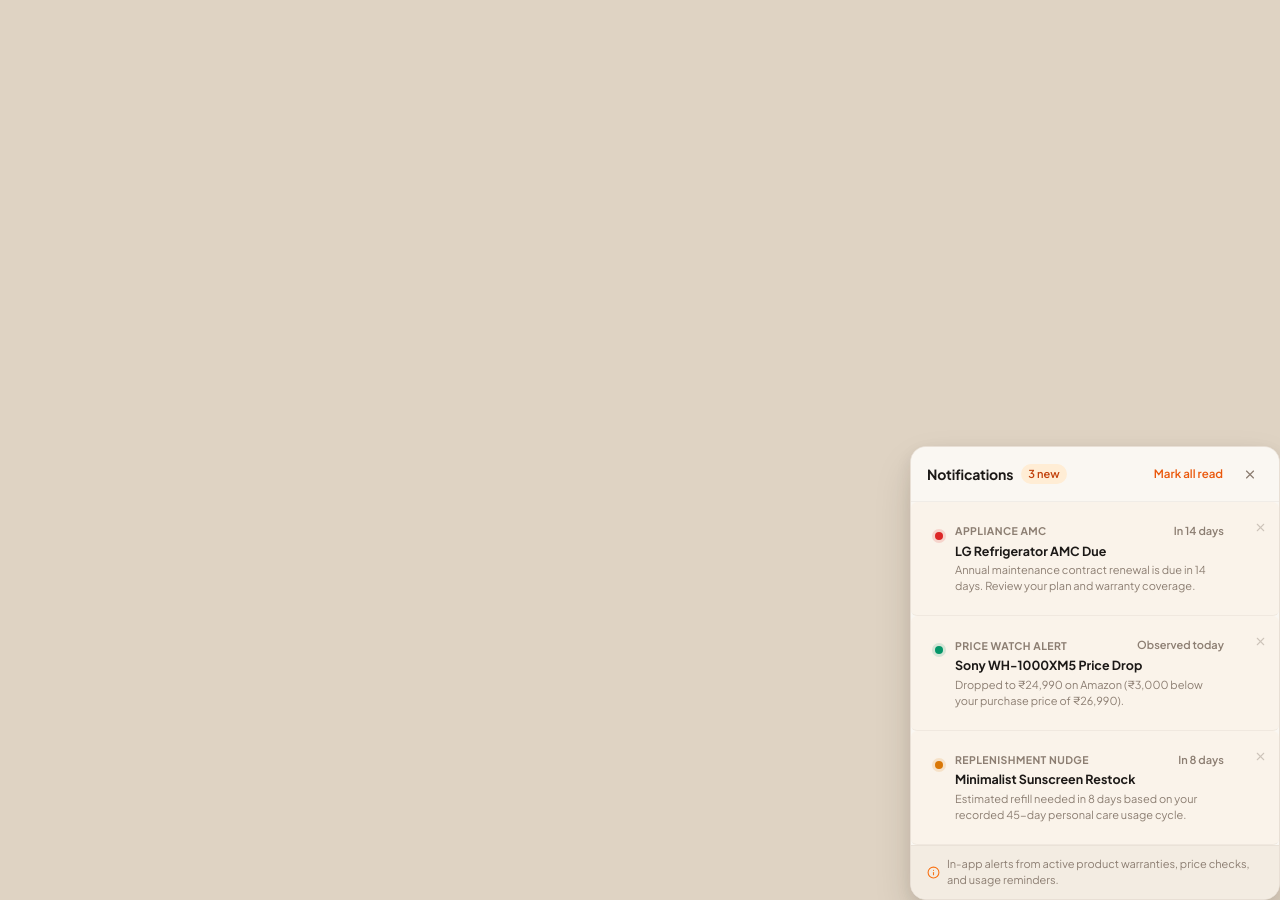
Test case: NotificationCenter › dismisses an individual notification and shows empty state when all are removed
(page scrolled)
Click the button named "dismiss notification" at (1260, 528), box [1250,514,1271,543]
(page scrolled)
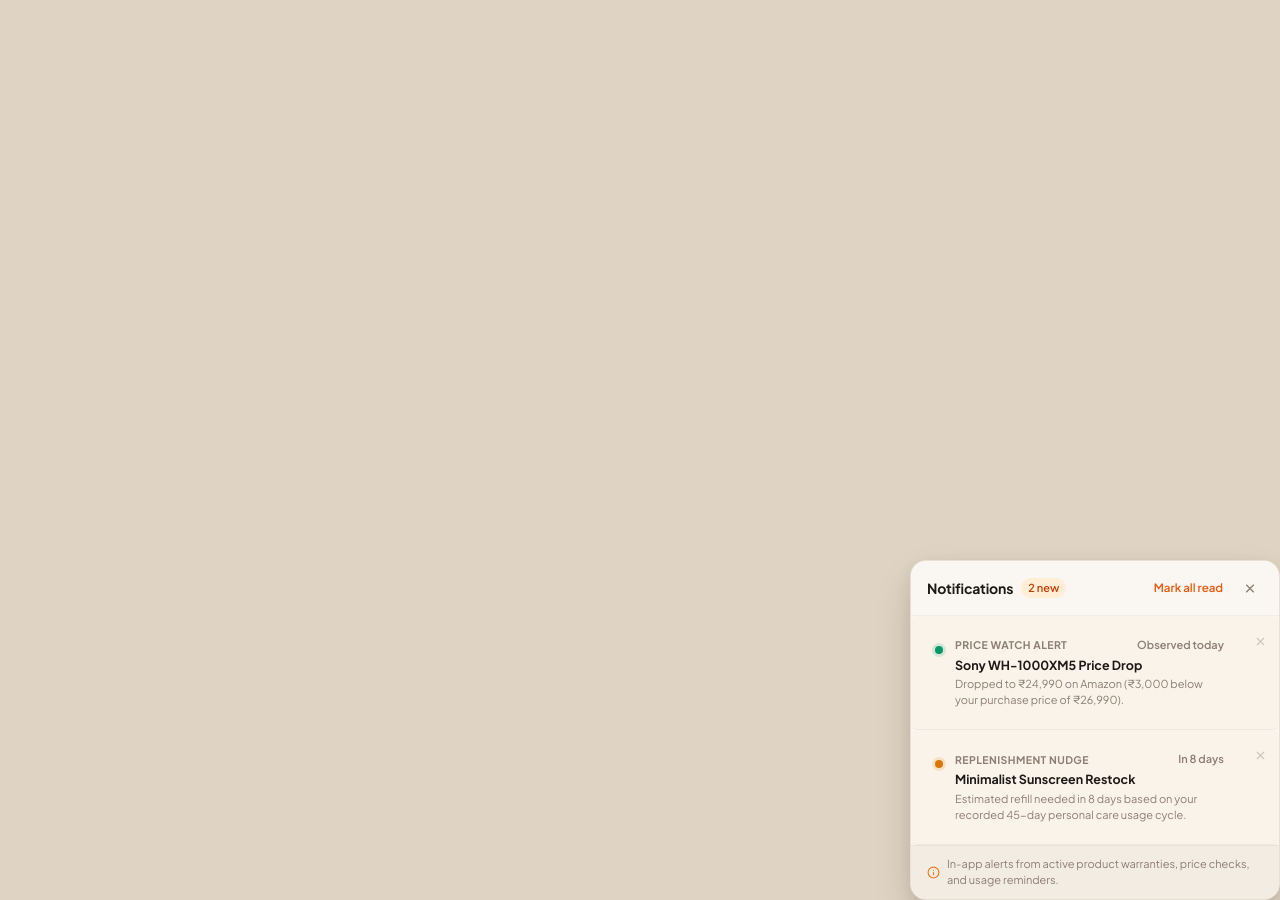
Click the button named "dismiss notification" at (1260, 642), box [1250,628,1271,657]
(page scrolled)
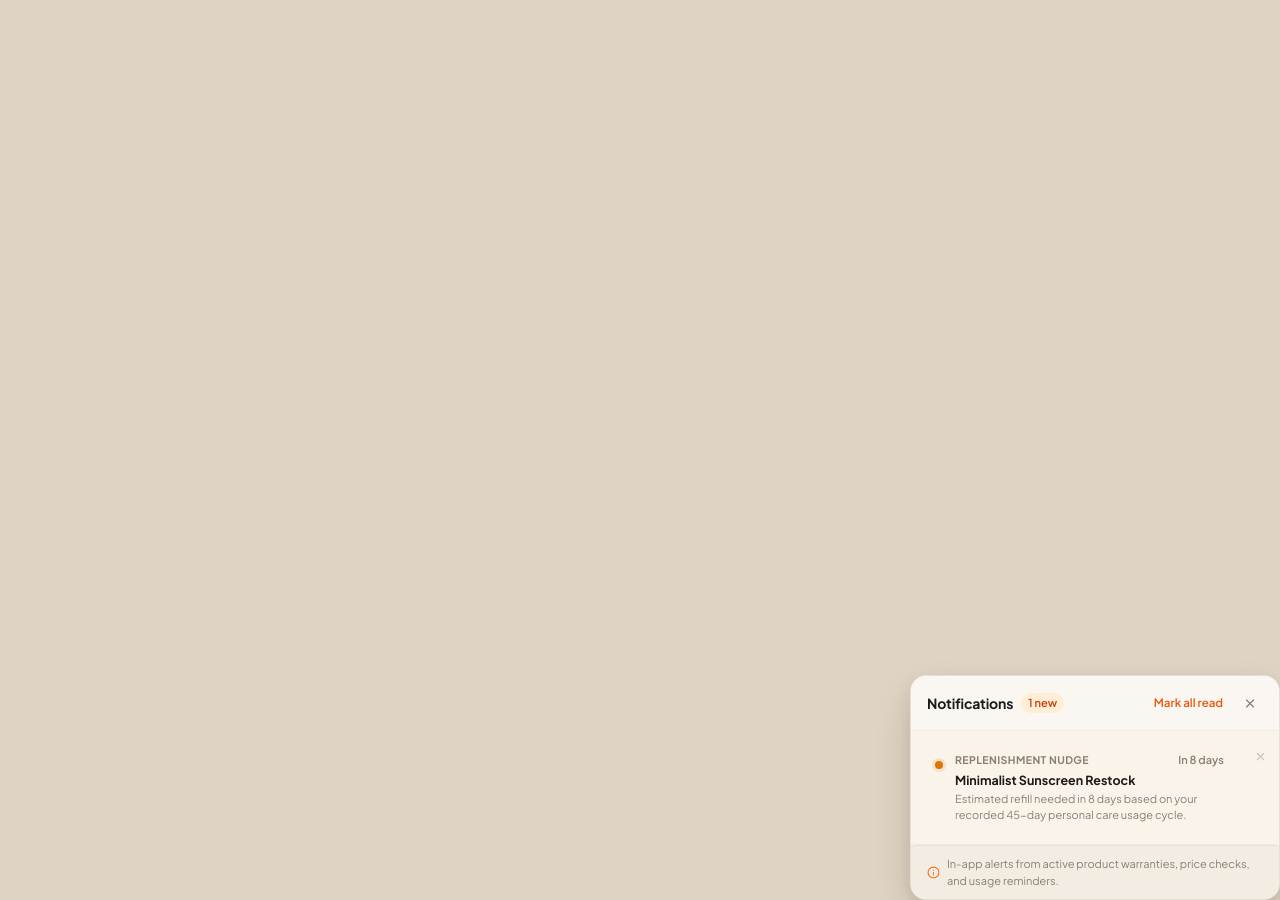
Click the button named "dismiss notification" at (1260, 758), box [1250,743,1271,772]
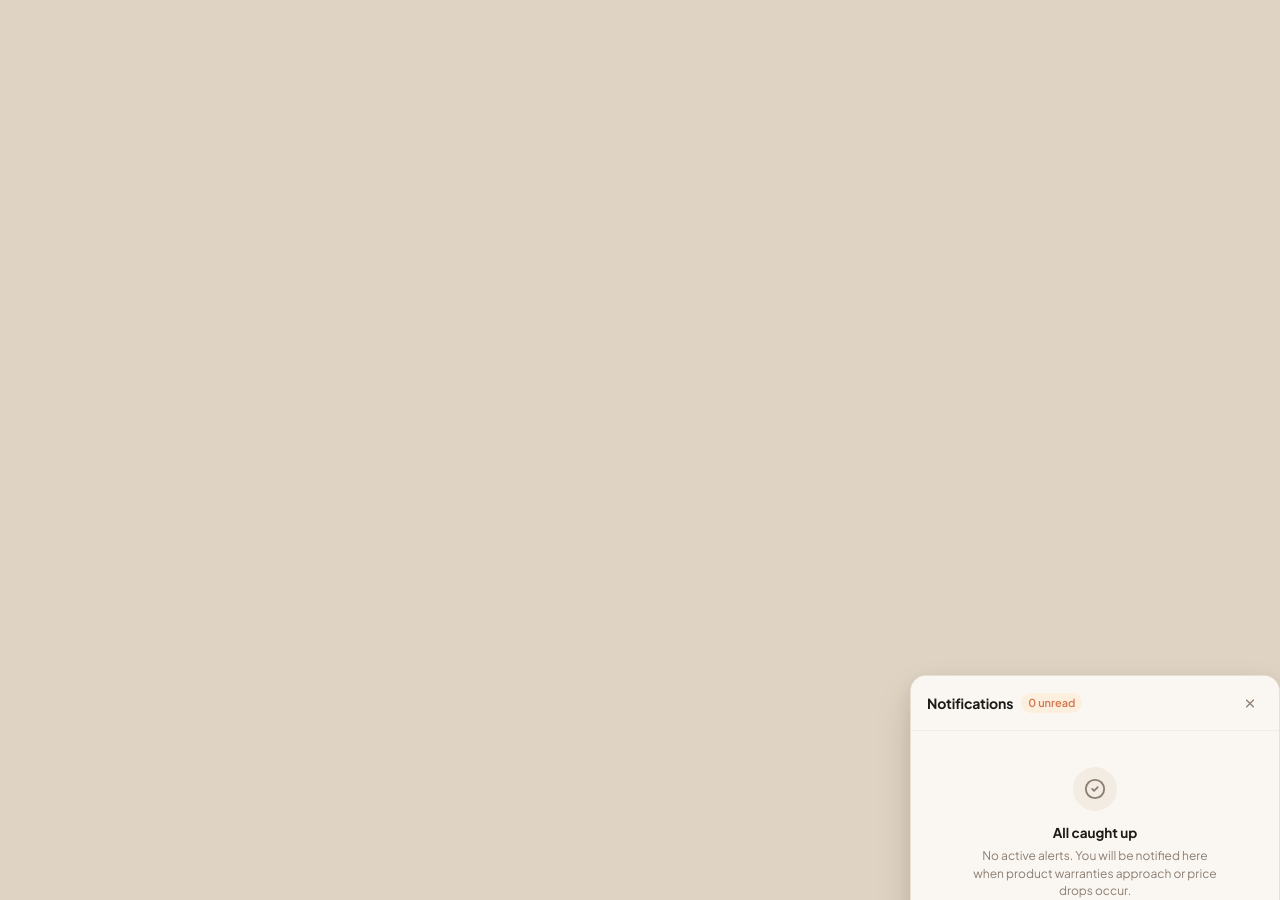
Check: the text "All caught up" is shown, box [1053,823,1137,843]
Check: the text "No active alerts" is shown, box [973,848,1217,898]
